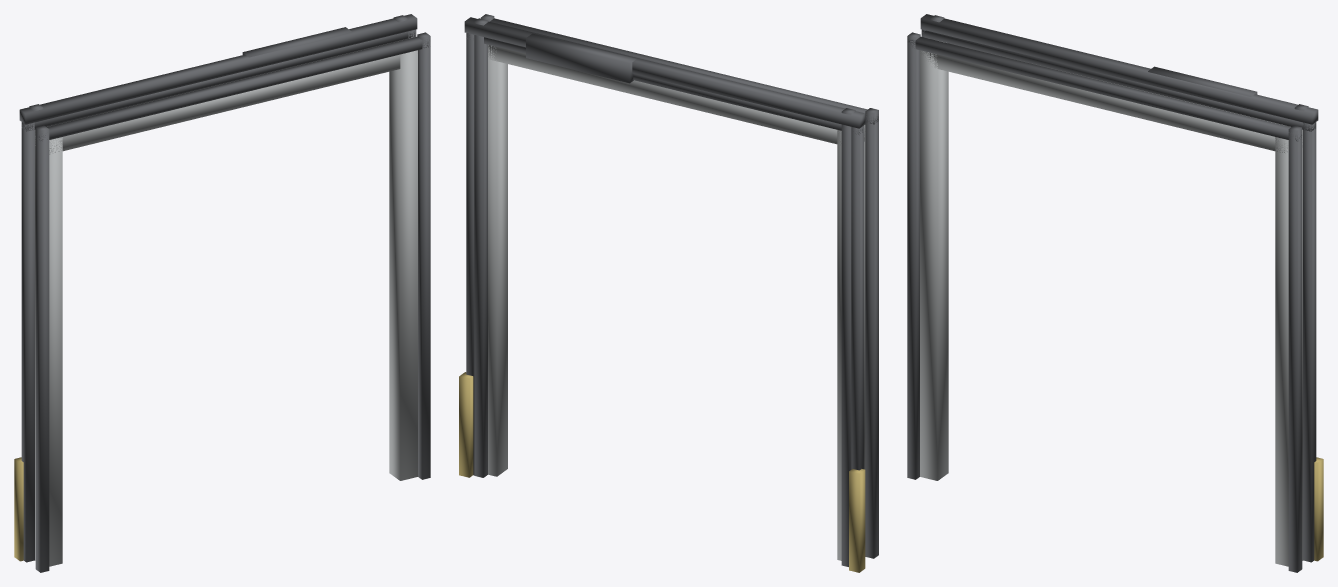
The model's file is bay_opening_service_bay_w360_h420_d20.glb.
3 renders of one model, left to right at view 1: azimuth 30°, elevation 25°; view 2: azimuth 150°, elevation 25°; view 3: azimuth 330°, elevation 25°, orthographic.
Visible parts, largest first — view 1: world; view 2: world; view 3: world.
Boxes of the visible parts, bbox=[...] form: world: bbox=[14, 14, 430, 572]; world: bbox=[459, 14, 878, 572]; world: bbox=[907, 14, 1323, 572].
Size of the model in its own units: 4.23 by 4.59 by 0.422.
